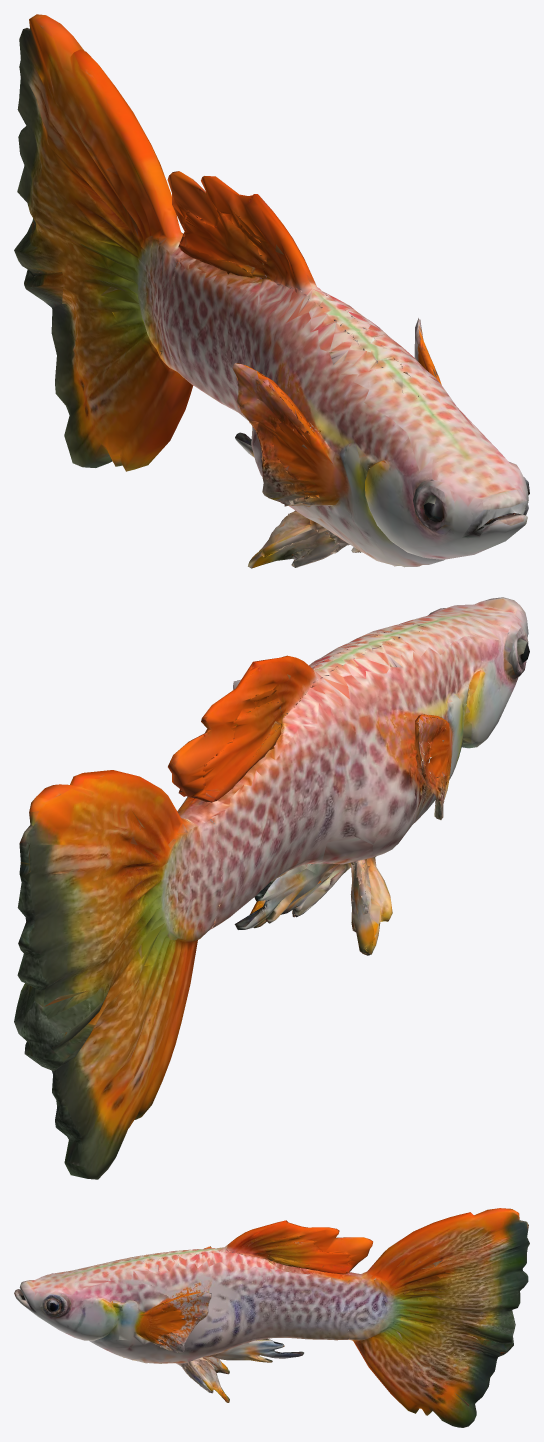
The model's file is strain-red_snakeskin_fan.glb.
The picture shows the model from 3 angles, top to bottom: view 1: azimuth 30°, elevation 25°; view 2: azimuth 150°, elevation 25°; view 3: azimuth 270°, elevation 25°; orthographic projection. The views are drawn at different scales.
Parts seen in each view (by area): view 1: Mesh_0.001; view 2: Mesh_0.001; view 3: Mesh_0.001.
Part boxes in pixels (bbox=[...]): Mesh_0.001: bbox=[14, 14, 529, 568]; Mesh_0.001: bbox=[14, 597, 529, 1179]; Mesh_0.001: bbox=[14, 1208, 529, 1427].
Bounding box in the file's own units: 0.00744 × 0.0157 × 0.0339.
2 materials, 2 textured.
